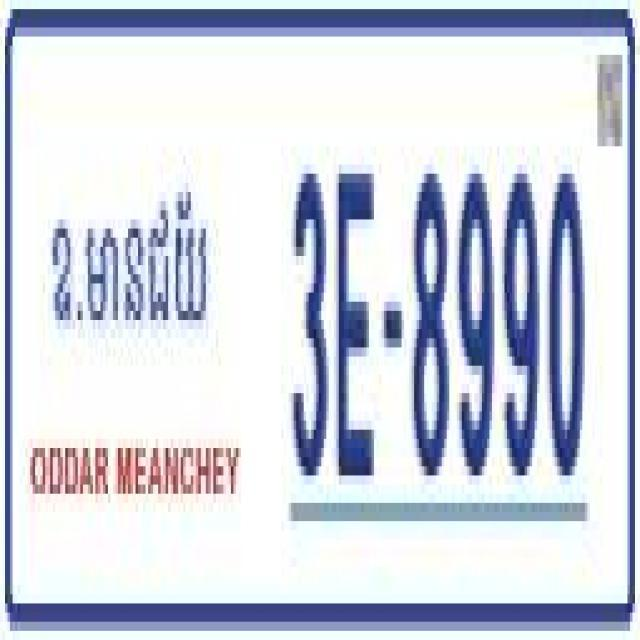Oudor_Meanchey: (48, 174, 212, 353)
